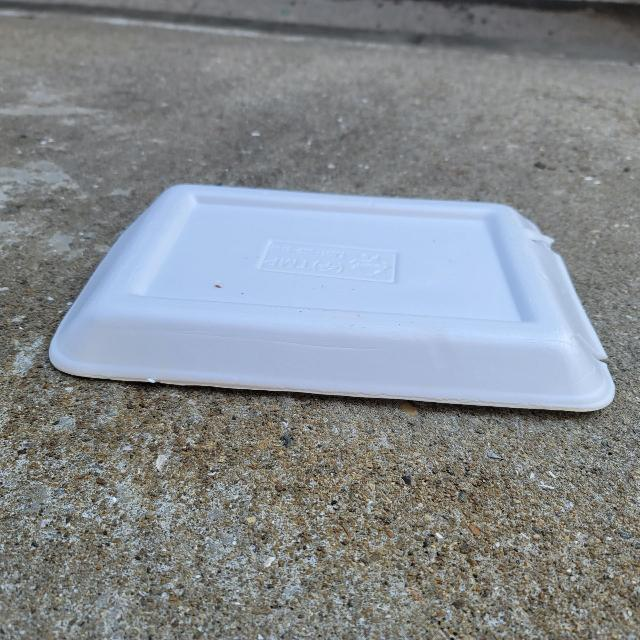Recipiente plastico: (50, 185, 614, 411)
